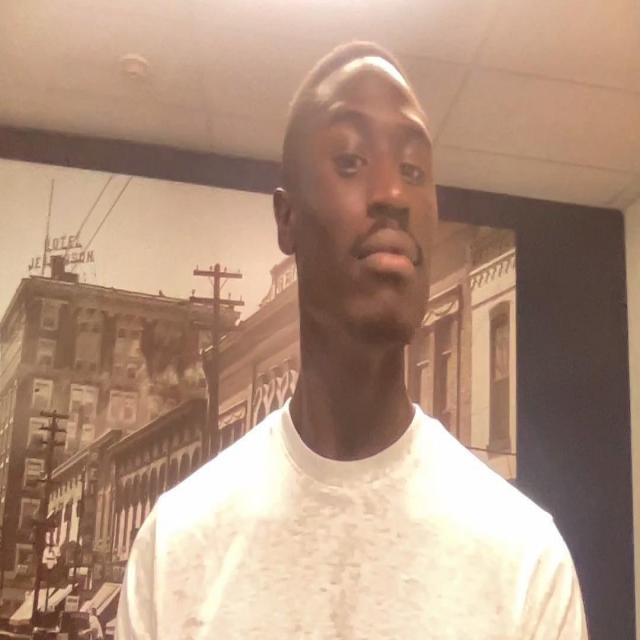face: (274, 69, 440, 343)
